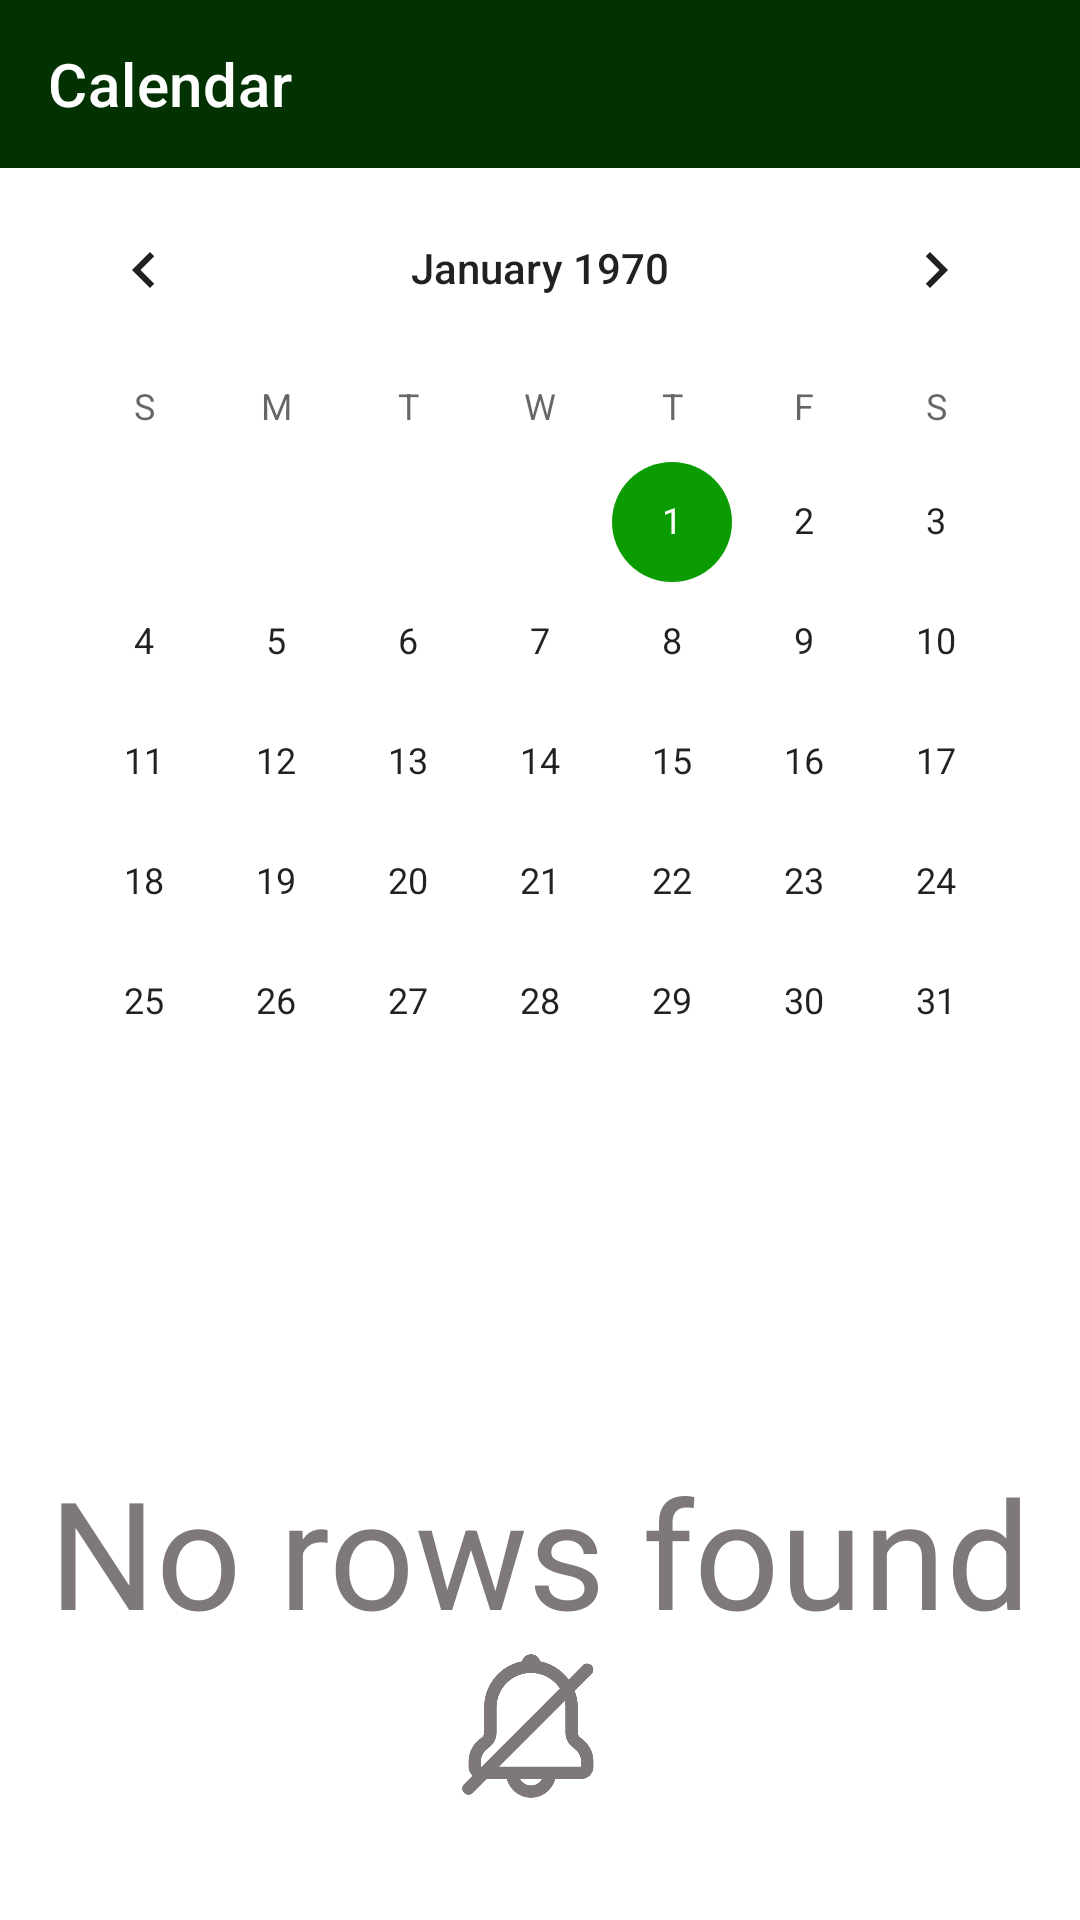

Point at icon controls on the screen. Image size 1080w x 1920h, points as point (x, y).
mute: point (528, 1726)
